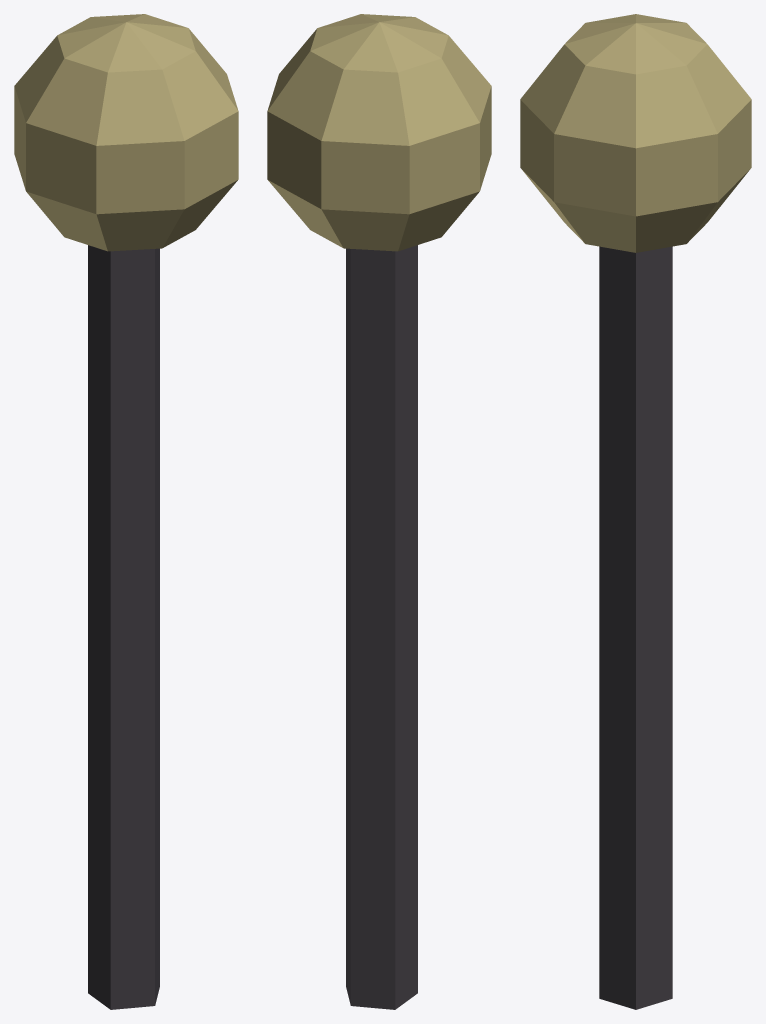
Rendered from street_lamp.glb.
The picture shows the model from 3 angles, left to right: view 1: azimuth 30°, elevation 25°; view 2: azimuth 150°, elevation 25°; view 3: azimuth 270°, elevation 25°; orthographic projection.
Visible parts, largest first — view 1: Icosphere, Sphere; view 2: Icosphere, Sphere; view 3: Icosphere, Sphere.
Boxes of the visible parts, x1,y1,x2,y2 form: Icosphere: (88,245,159,1009); Sphere: (14,14,238,251); Icosphere: (346,245,417,1009); Sphere: (267,14,491,251); Icosphere: (599,246,672,1009); Sphere: (520,14,751,252).
Size of the model in its own units: 5.38 by 24.9 by 5.38.
Materials: 2 (2 with a texture image).
